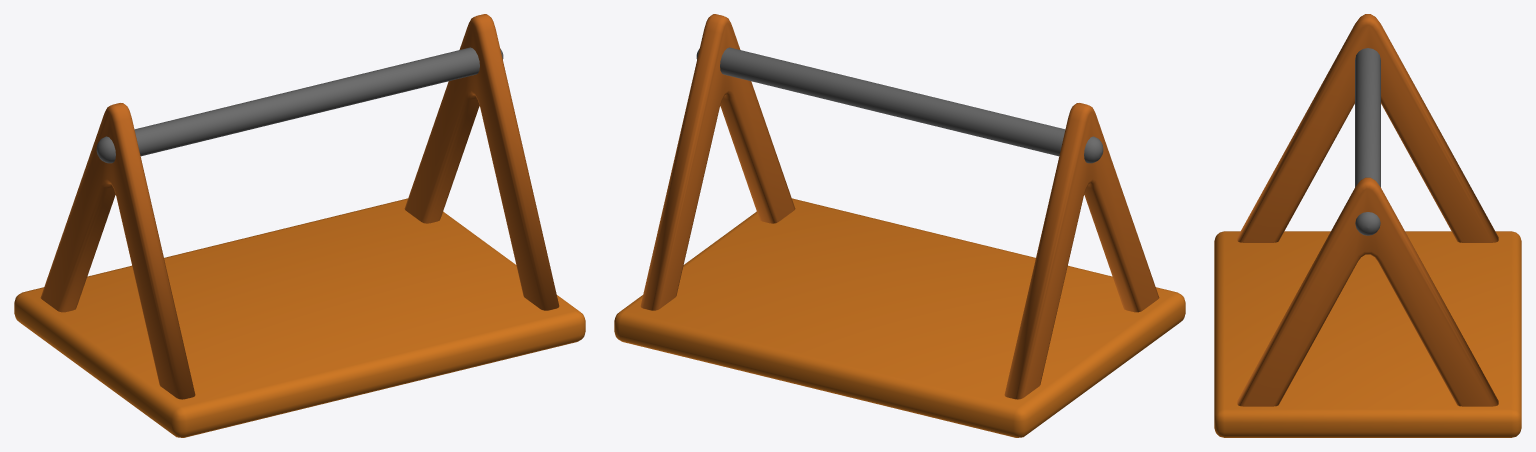
Rendered from Holder1.fbx.
The picture shows the model from 3 angles, left to right: view 1: azimuth 30°, elevation 25°; view 2: azimuth 150°, elevation 25°; view 3: azimuth 270°, elevation 25°; orthographic projection. The views are drawn at different scales.
Visible parts, largest first — view 1: Holder1; view 2: Holder1; view 3: Holder1.
Part boxes in pixels (<box>): Holder1: <box>14,14,585,437</box>; Holder1: <box>614,14,1185,437</box>; Holder1: <box>1214,14,1521,437</box>.
Bounding box in the file's own units: 3.26 × 2.28 × 2.05.
